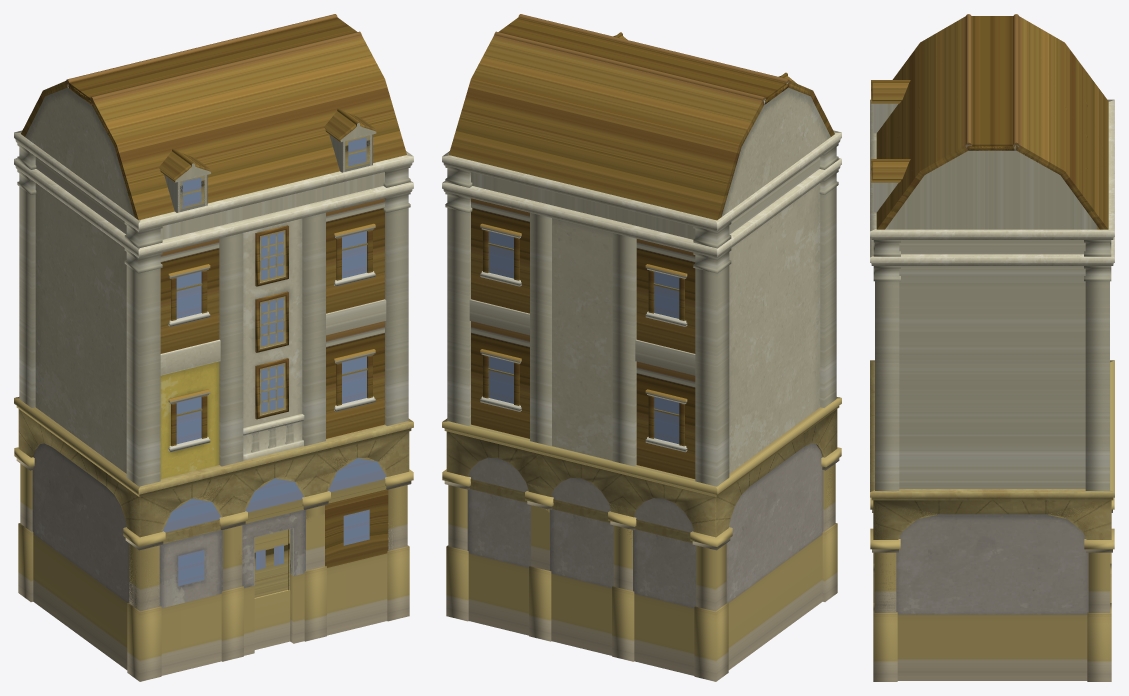
The model's file is objects_un_t06building03_r1s0.gltf.
3 views of the same model, side by side, from view 1: azimuth 30°, elevation 25°; view 2: azimuth 150°, elevation 25°; view 3: azimuth 270°, elevation 25° (orthographic).
Visible parts, largest first — view 1: um_objects_un_t06building03_r1s0_model_lod0Shape:objects_un_ (×3), um_objects_un_t06building03_r1s0_model_lod1Shape:objects_un_ (×3), um_objects_un_t06building03_r1s0_model_lod2Shape:objects_un_ (×3); view 2: um_objects_un_t06building03_r1s0_model_lod0Shape:objects_un_ (×2), um_objects_un_t06building03_r1s0_model_lod1Shape:objects_un_, um_objects_un_t06building03_r1s0_model_lod2Shape:objects_un_ (×3); view 3: um_objects_un_t06building03_r1s0_model_lod0Shape:objects_un_ (×2), um_objects_un_t06building03_r1s0_model_lod1Shape:objects_un_, um_objects_un_t06building03_r1s0_model_lod2Shape:objects_un_ (×2).
Boxes of the visible parts, x1=… form: um_objects_un_t06building03_r1s0_model_lod0Shape:objects_un_ (×3): x1=14, y1=14, x2=413, y2=681; um_objects_un_t06building03_r1s0_model_lod1Shape:objects_un_ (×3): x1=15, y1=17, x2=412, y2=630; um_objects_un_t06building03_r1s0_model_lod2Shape:objects_un_ (×3): x1=19, y1=136, x2=409, y2=675; um_objects_un_t06building03_r1s0_model_lod0Shape:objects_un_ (×2): x1=442, y1=14, x2=841, y2=681; um_objects_un_t06building03_r1s0_model_lod1Shape:objects_un_: x1=443, y1=17, x2=840, y2=407; um_objects_un_t06building03_r1s0_model_lod2Shape:objects_un_ (×3): x1=446, y1=231, x2=837, y2=675; um_objects_un_t06building03_r1s0_model_lod0Shape:objects_un_ (×2): x1=870, y1=14, x2=1114, y2=681; um_objects_un_t06building03_r1s0_model_lod1Shape:objects_un_: x1=871, y1=16, x2=1113, y2=265; um_objects_un_t06building03_r1s0_model_lod2Shape:objects_un_ (×2): x1=873, y1=500, x2=1111, y2=680.
Size of what is drawn, in the model's own units: 10.86 by 20.7 by 8.52.
Materials: 4 (3 with a texture image).
